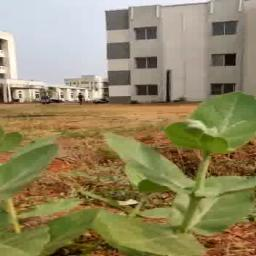Calotropis: (0, 120, 255, 255), (180, 95, 255, 127)
